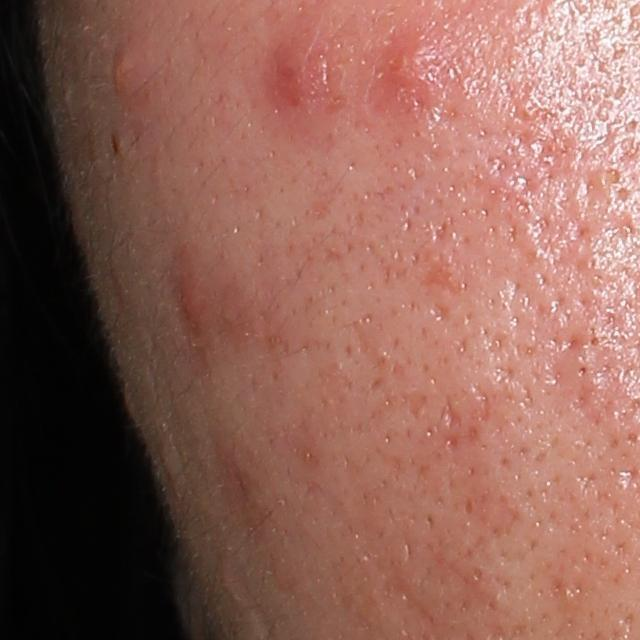atrophic_scar: (442, 395, 463, 428)
papule: (382, 34, 435, 91), (266, 49, 315, 101), (110, 44, 150, 102), (175, 278, 212, 337)
